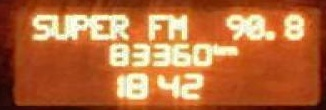-: (263, 30, 275, 41)
0: (243, 12, 263, 39), (190, 41, 211, 66)
1: (115, 72, 123, 98)
2: (180, 72, 203, 98)
3: (128, 41, 148, 66), (150, 41, 170, 66)
4: (153, 71, 178, 98)
6: (171, 40, 190, 66)
8: (125, 71, 148, 100), (282, 12, 303, 38), (107, 42, 128, 66)
9: (221, 12, 245, 39)
X: (108, 12, 128, 39), (167, 12, 187, 38), (30, 13, 50, 39), (147, 13, 167, 38), (50, 13, 70, 38), (90, 12, 108, 39), (72, 12, 88, 38), (222, 43, 238, 56), (211, 41, 220, 55)
